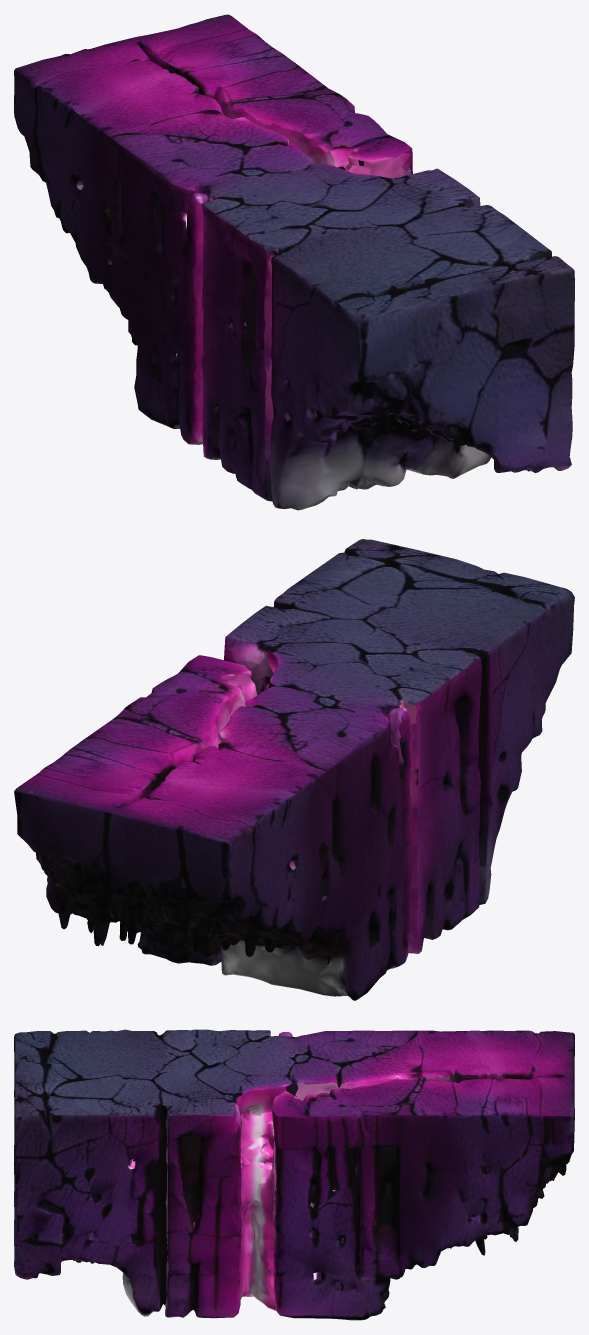
The model's file is shelf-break-5-generated-2026-05-17T20-47-17-100Z.medium.glb.
The picture shows the model from 3 angles, top to bottom: view 1: azimuth 30°, elevation 25°; view 2: azimuth 150°, elevation 25°; view 3: azimuth 270°, elevation 25°; orthographic projection. The views are drawn at different scales.
Parts seen in each view (by area): view 1: temp_mesh.ply; view 2: temp_mesh.ply; view 3: temp_mesh.ply.
Boxes of the visible parts, left/top/right/bottom form: temp_mesh.ply: left=14, top=14, right=574, bottom=510; temp_mesh.ply: left=14, top=539, right=574, bottom=1000; temp_mesh.ply: left=14, top=1029, right=574, bottom=1320.
Bounding box in the file's own units: 0.7287 × 0.8173 × 1.97.
1 material, 1 textured.
